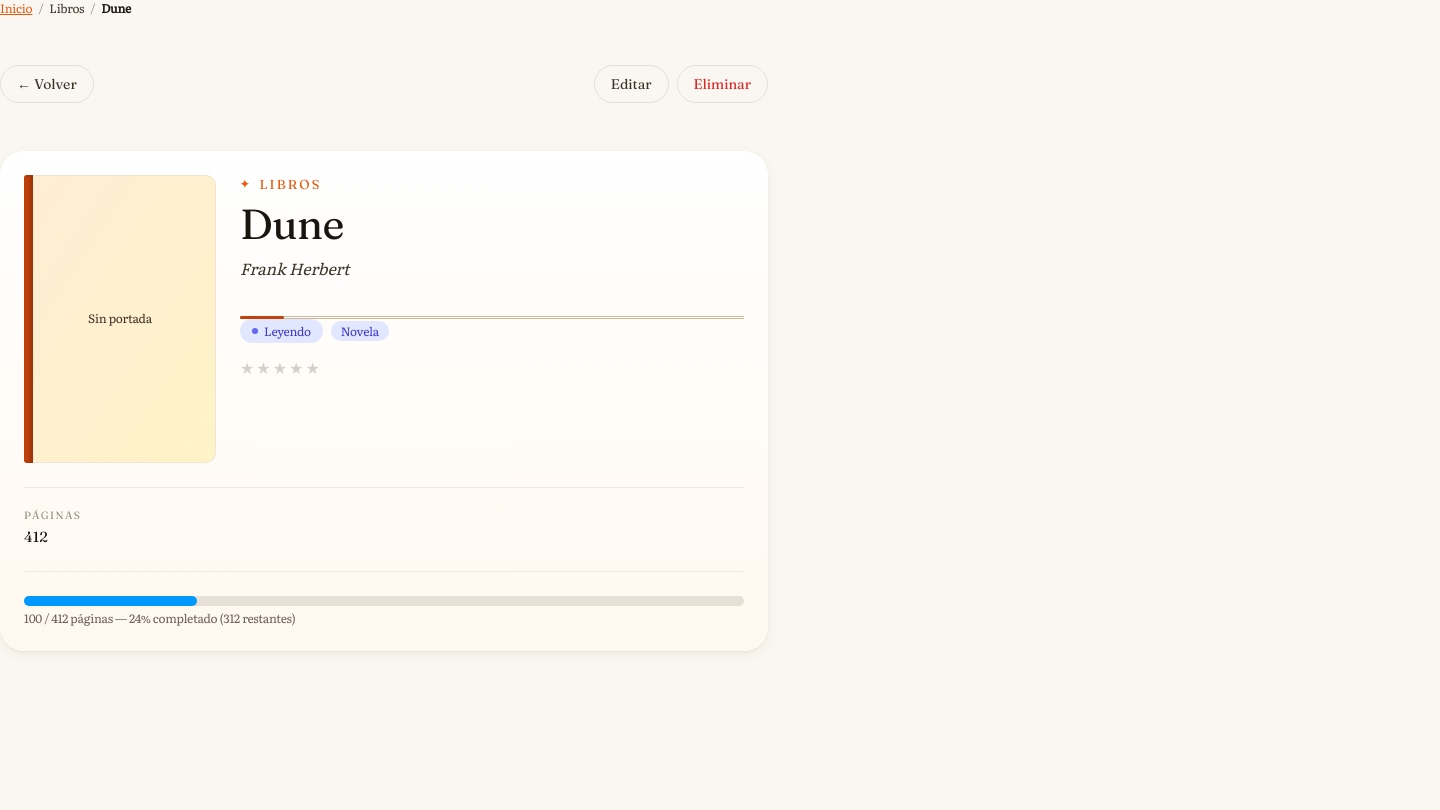
Test: BookDetailPage progreso › editar en el modal guarda vía PATCH y refresca
Click the button named "Actualizar páginas leídas": (384, 601) x1=24 y1=596 x2=744 y2=606
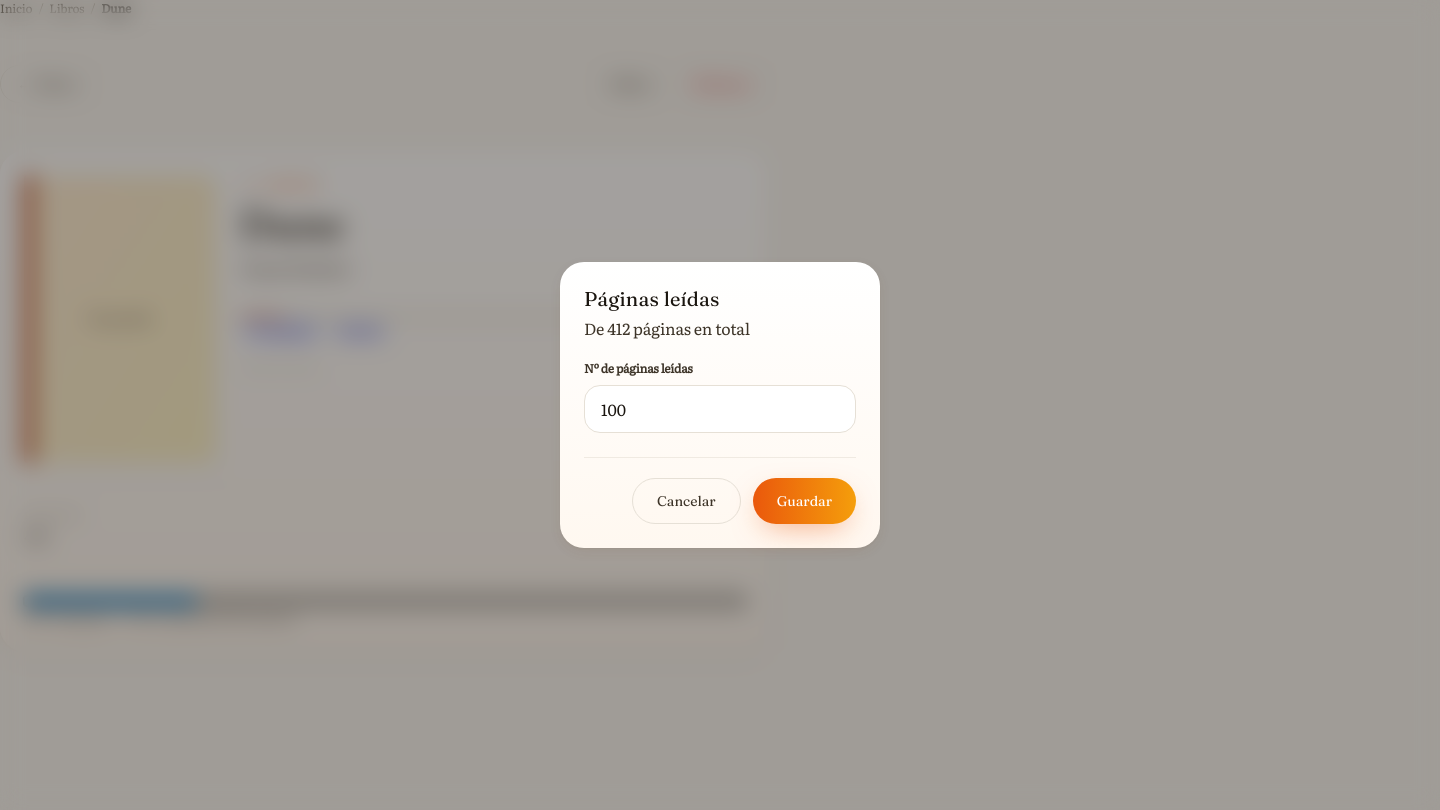
Replace the text in the number field labelled "Nº de páginas leídas" with "150": (720, 409) x1=584 y1=385 x2=856 y2=433
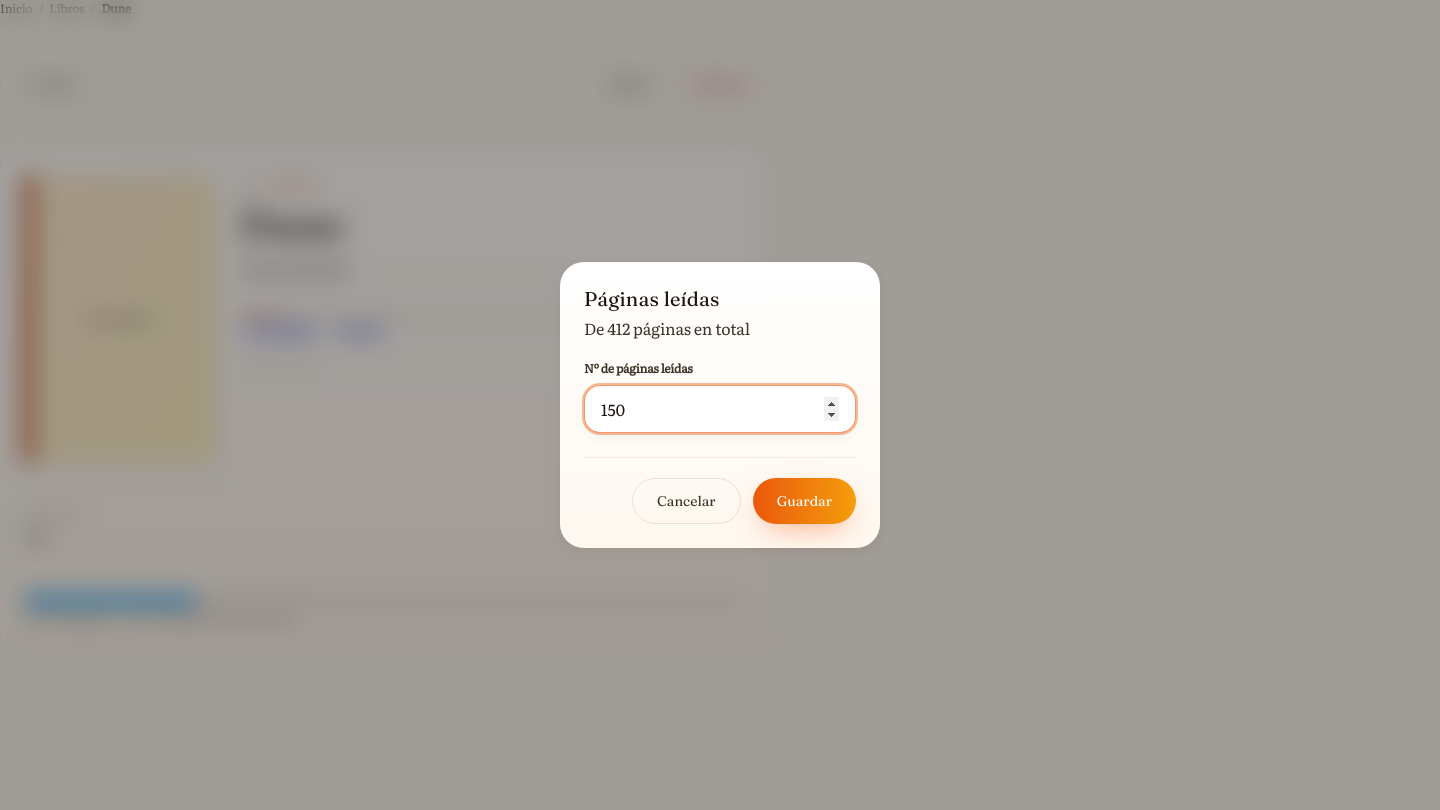
Click the button "Guardar": (804, 501) x1=753 y1=478 x2=856 y2=524
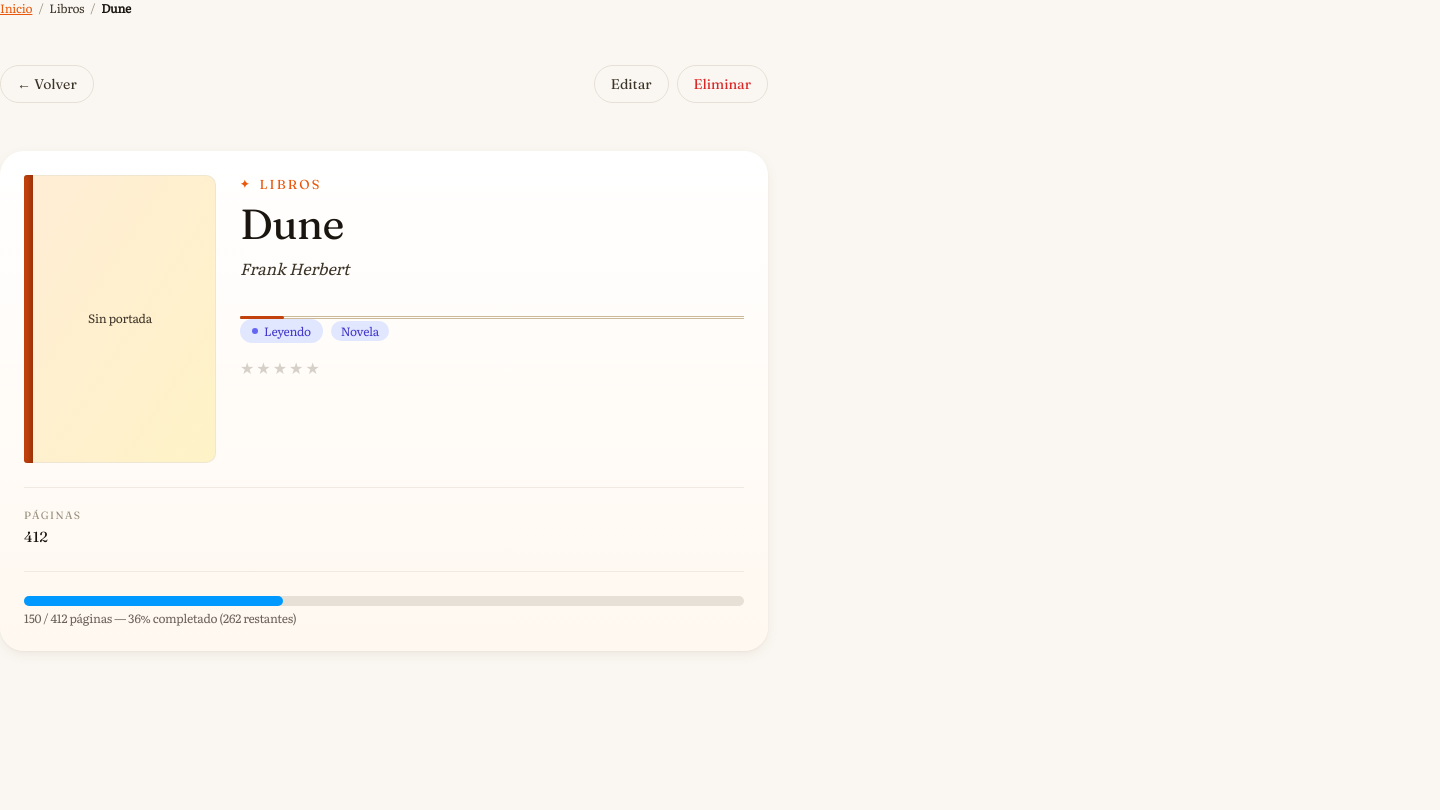
Expected: the text "150 / 412 páginas — 36% completado (262 restantes)" is shown, x1=24 y1=609 x2=297 y2=627
